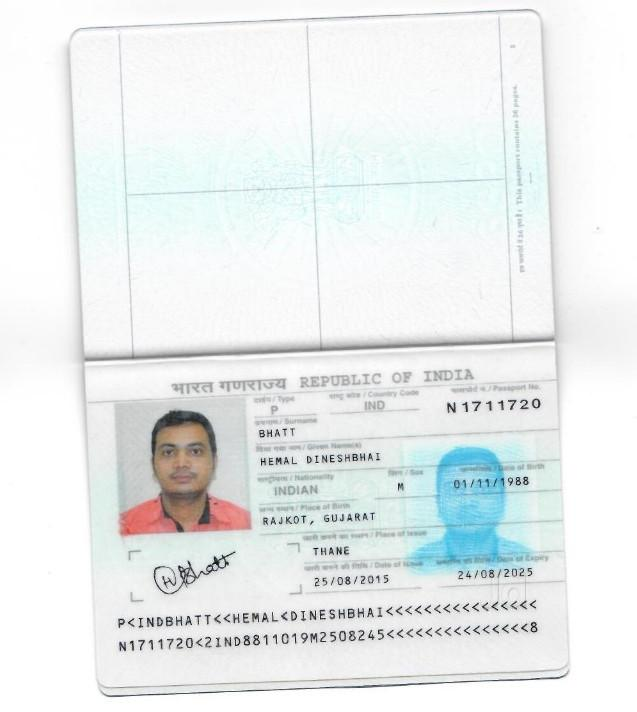DOB: (449, 473, 535, 492)
Surname: (253, 423, 302, 442)
country_code: (359, 396, 394, 414)
date_of_expiry: (452, 566, 542, 585)
date_of_issue: (302, 573, 399, 592)
details: (108, 592, 549, 663)
name: (250, 448, 386, 474)
nationality: (267, 483, 325, 499)
passport_no: (438, 392, 552, 421)
photo: (112, 396, 252, 535)
place_of_birth: (255, 502, 393, 530)
place_of_issue: (309, 544, 357, 561)
sex: (392, 478, 409, 496)
sign: (141, 545, 258, 601)
type: (264, 404, 286, 419)
